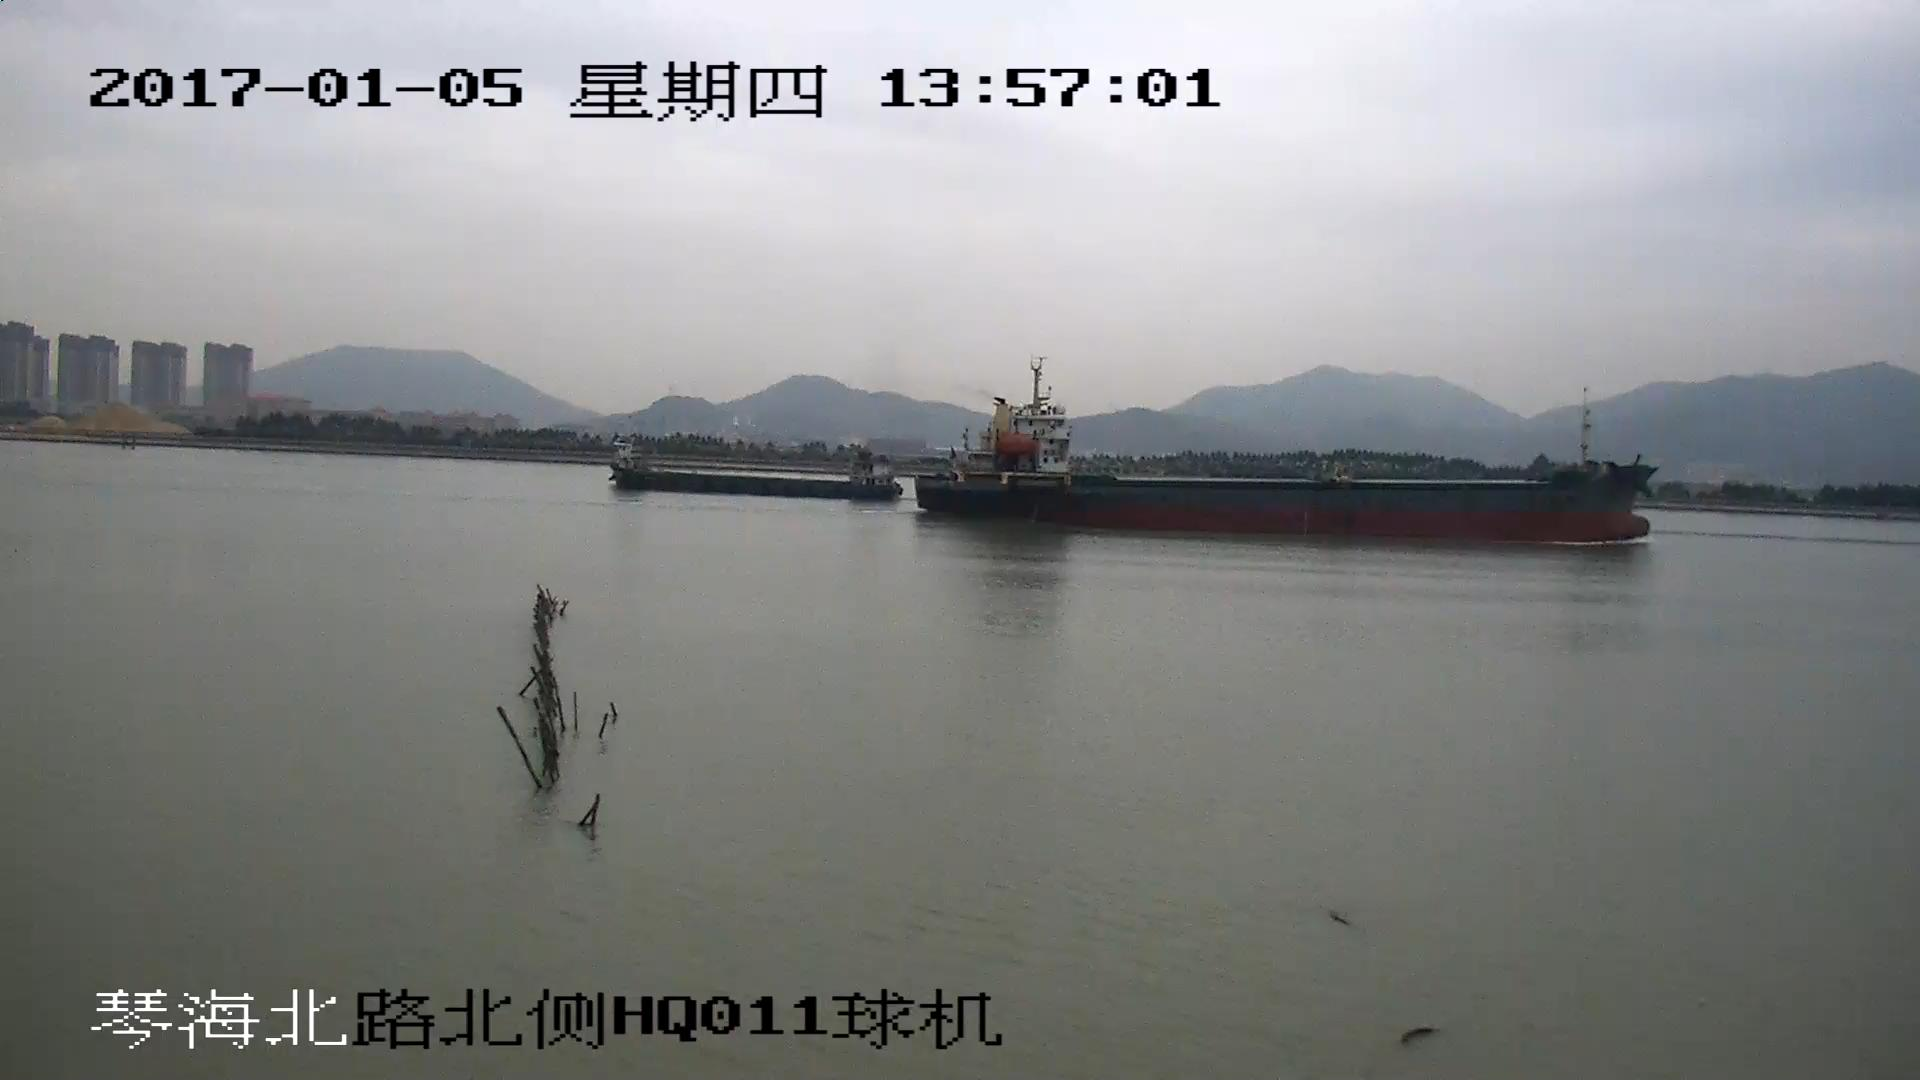general cargo ship: (910, 363, 1659, 543), (610, 435, 900, 500)
